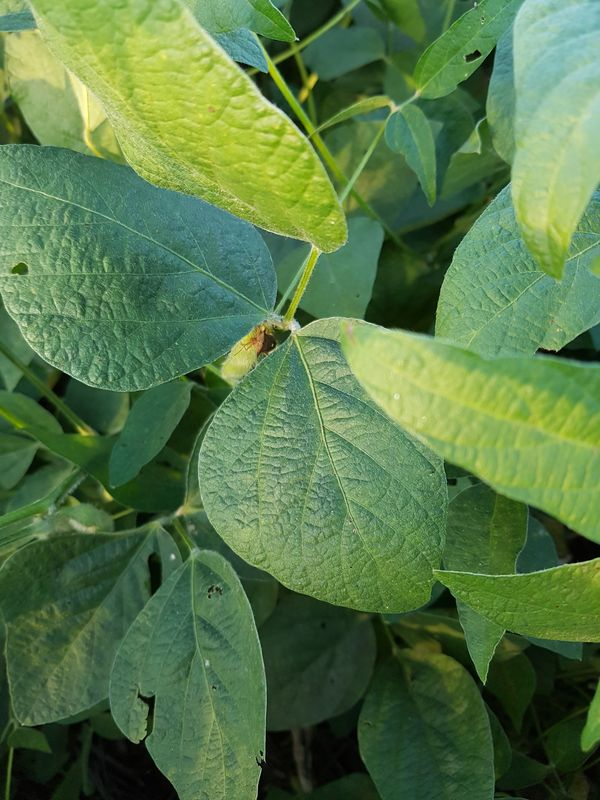Euschistus_heros_adulto: (239, 325, 281, 364)
